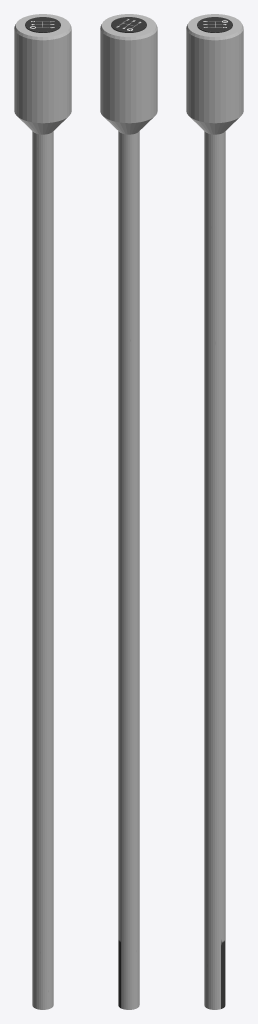
File: gearshifter_handle.fbx
3 renders of one model, left to right at view 1: azimuth 90°, elevation 25°; view 2: azimuth 150°, elevation 25°; view 3: azimuth 270°, elevation 25°, orthographic.
Parts seen in each view (by area): view 1: Handle; view 2: Handle; view 3: Handle.
Part boxes in pixels (x1,y1,x2,y2): Handle: (14,14,71,1009); Handle: (100,14,157,1009); Handle: (186,14,243,1009).
Size of the model in its own units: 1.71 by 32.23 by 1.71.
